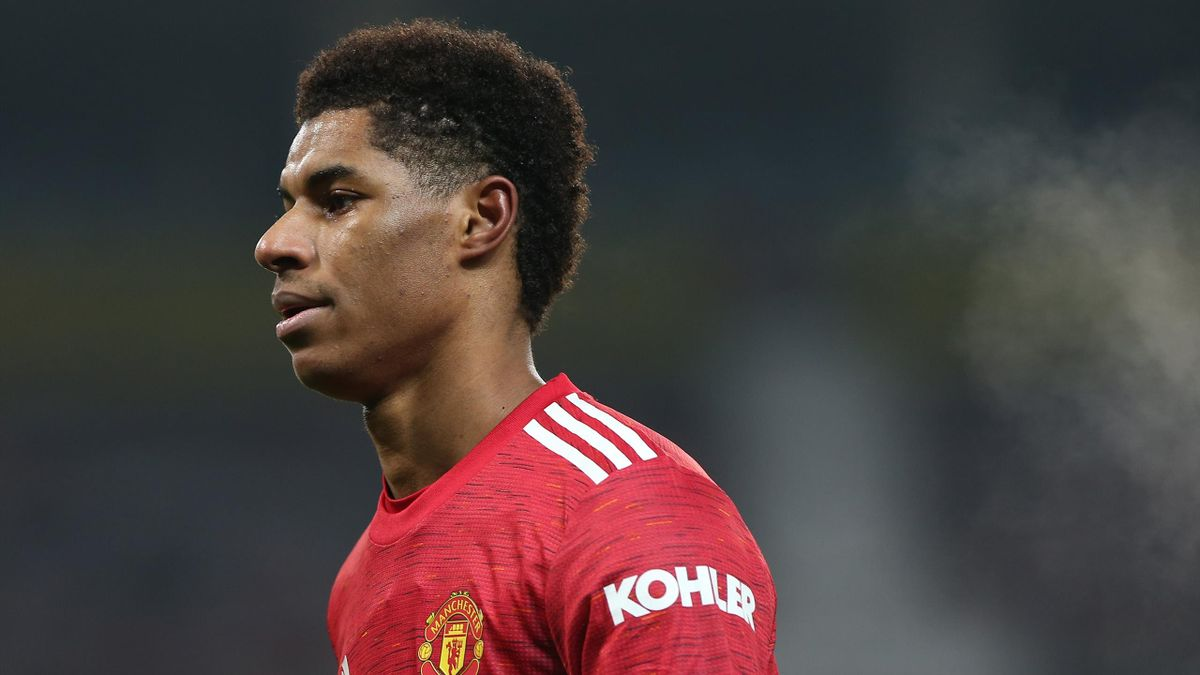NoMask: (255, 154, 411, 388)
